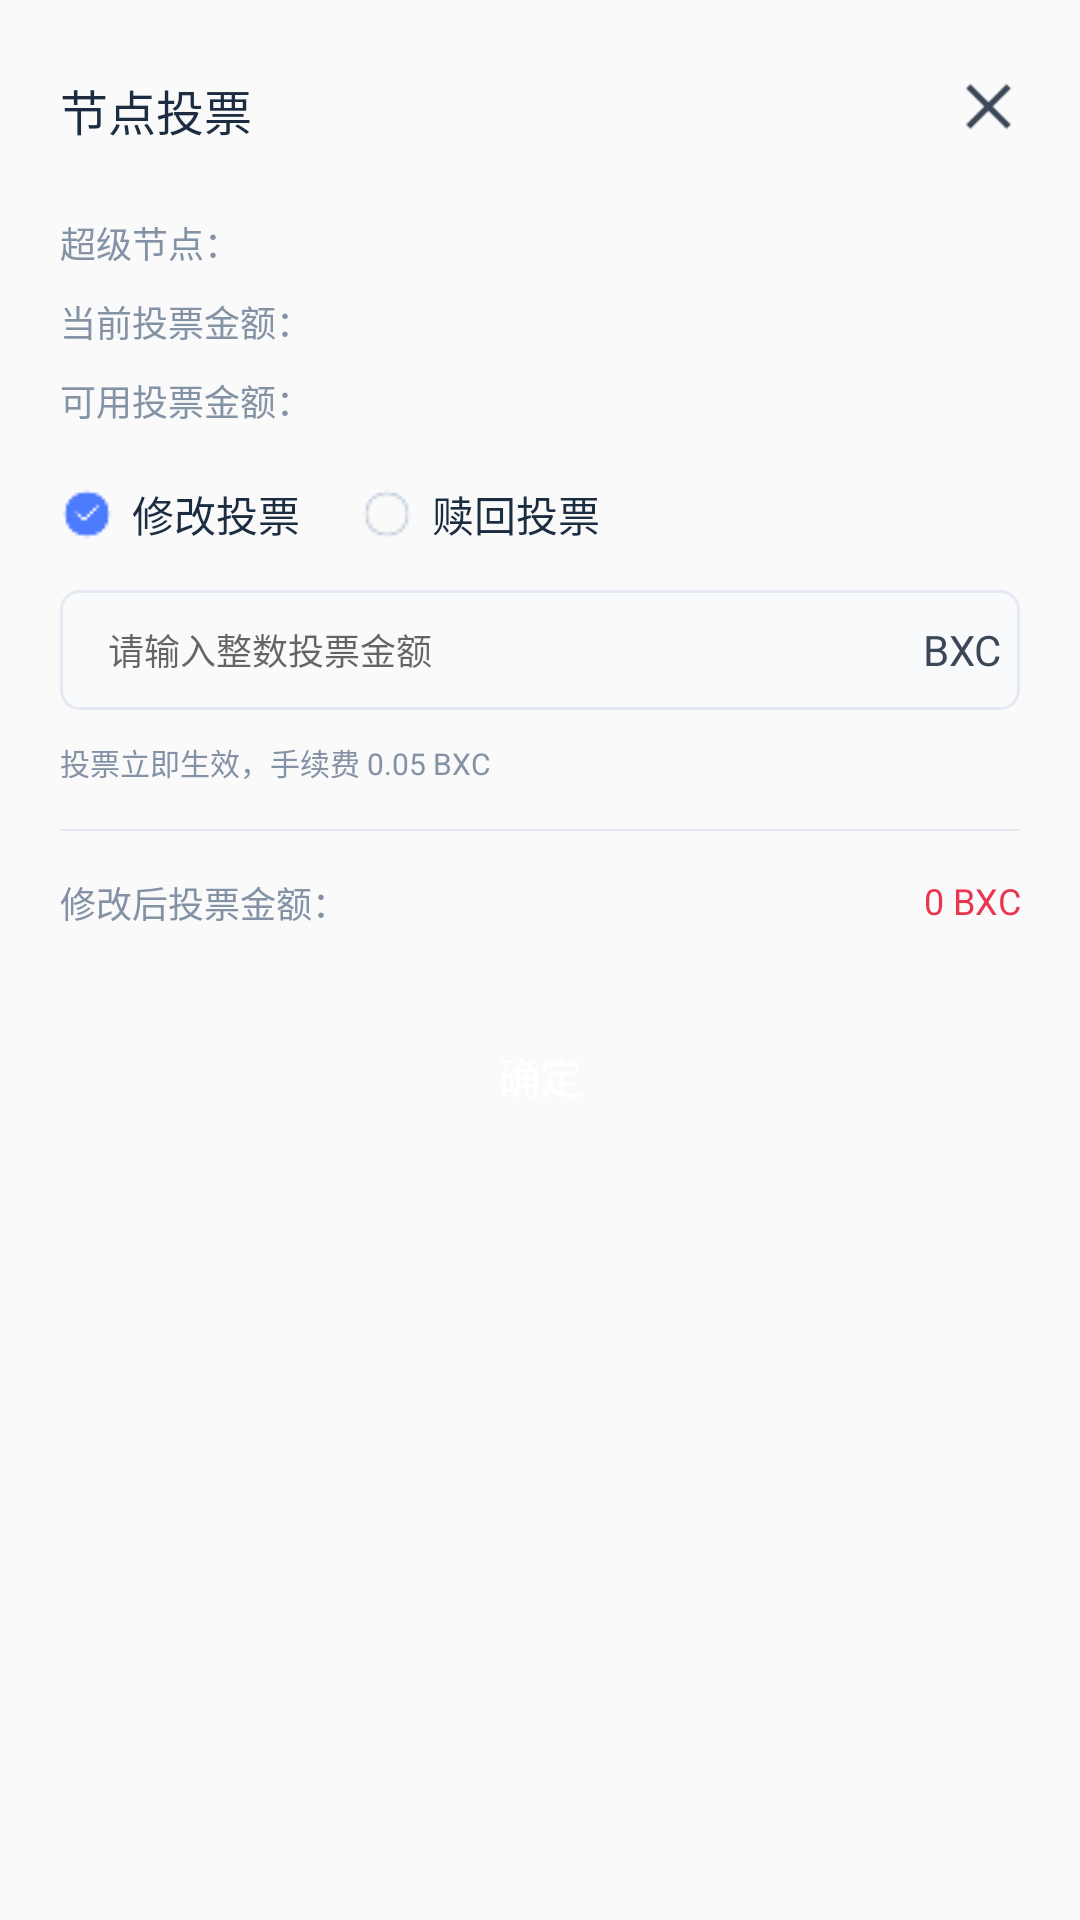

Icon click points for this 1080px x 1920px phone screenshot, format [x,y]:
aty close: [988,106]
